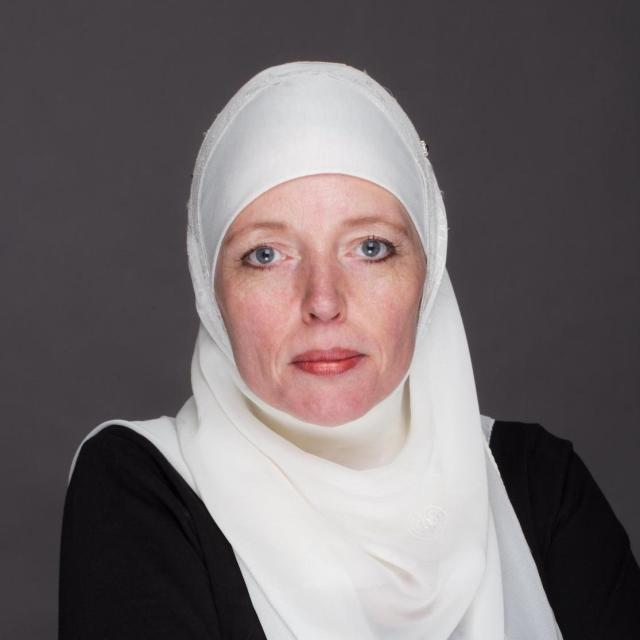no-glass: (230, 236, 400, 274)
